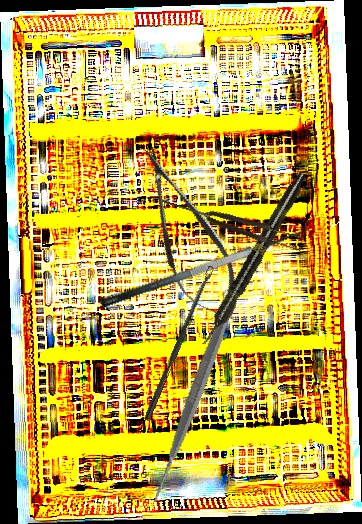Handpiece: (196, 169, 311, 350)
Micro Scissor: (121, 136, 253, 335)
Spatula Surgical: (75, 252, 328, 508), (93, 211, 316, 310)
Surgical Spoon: (143, 265, 216, 422)
Tissue Forceps: (159, 191, 305, 254)
